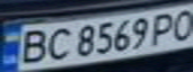5: (93, 19, 118, 56)
6: (112, 16, 136, 53)
8: (72, 21, 96, 57)
9: (127, 15, 157, 51)
B: (12, 27, 51, 65)
C: (42, 25, 75, 62)
O: (166, 6, 193, 42)
P: (148, 9, 181, 46)
